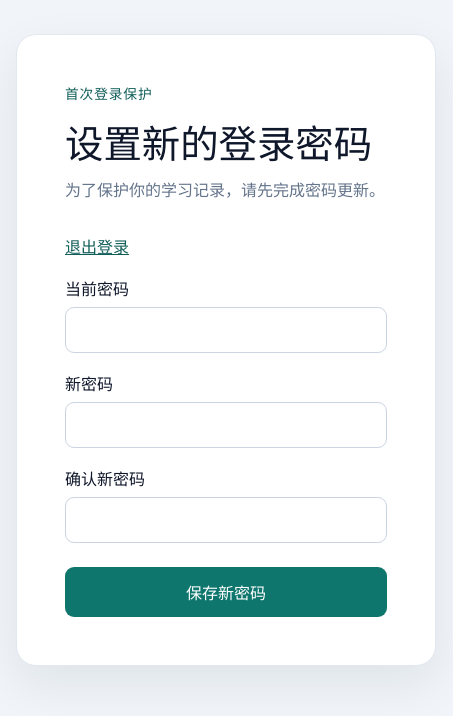
Scenario: ChangePasswordView › requires matching new-password confirmation before submitting
Type "old password" into the password field named "当前密码" at (226, 330), box [65, 307, 387, 353]
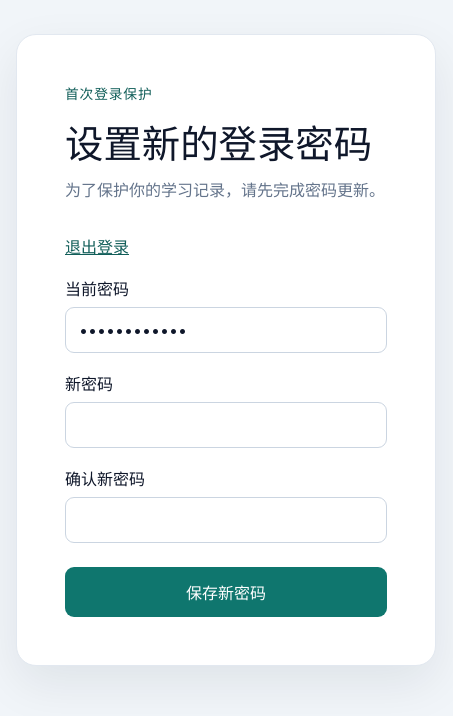
Type "new password" into the password field named "新密码" at (226, 425), box [65, 402, 387, 448]
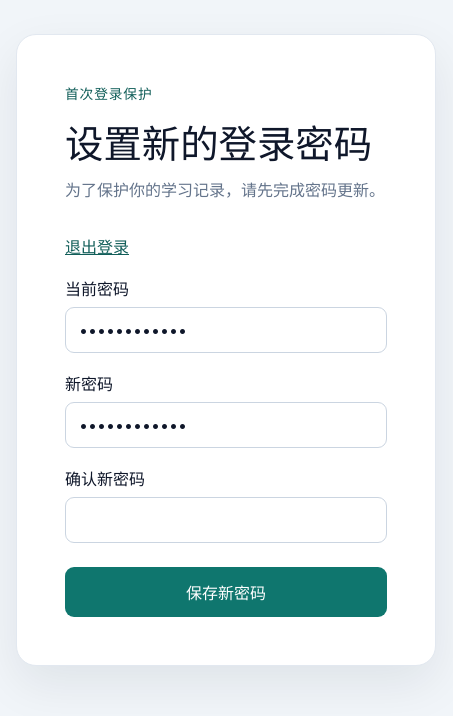
Type "other password" into the password field named "确认新密码" at (226, 520), box [65, 497, 387, 543]
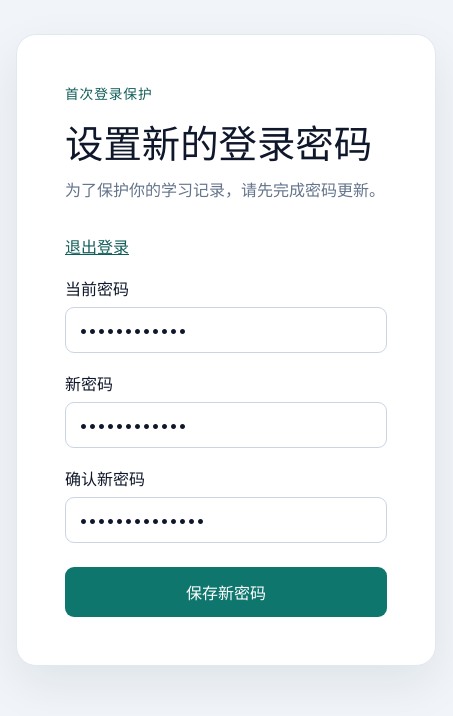
Submit the form, box [65, 276, 387, 617]
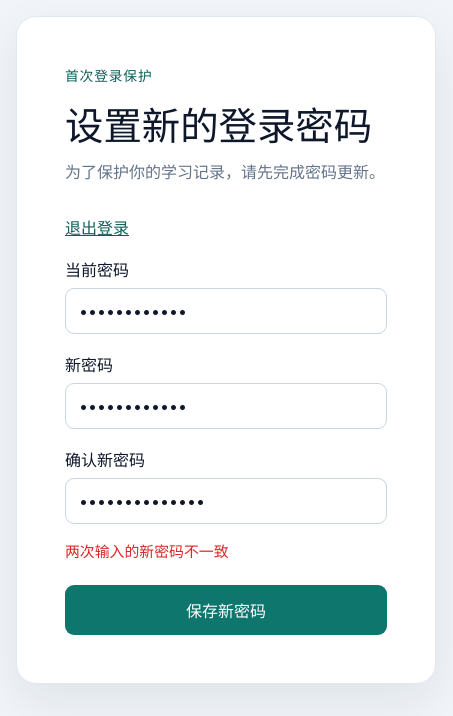
Now the text "两次输入的新密码不一致" is shown, box [65, 543, 229, 561]
